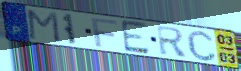1: (61, 12, 78, 47)
C: (185, 29, 218, 63)
E: (119, 19, 152, 56)
F: (90, 17, 119, 49)
M: (27, 8, 63, 45)
R: (155, 24, 190, 58)
